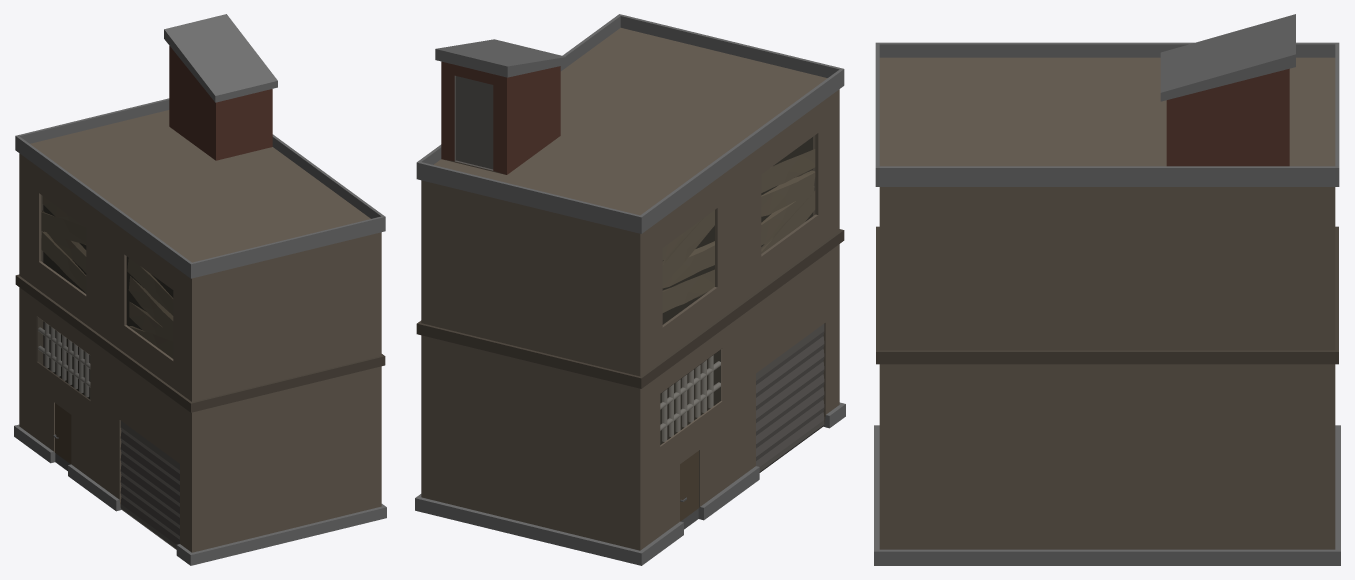
File: Proto-OldPawn.fbx
3 renders of one model, left to right at view 1: azimuth 30°, elevation 25°; view 2: azimuth 150°, elevation 25°; view 3: azimuth 270°, elevation 25°, orthographic. The views are drawn at different scales.
Parts seen in each view (by area): view 1: PawnShopOld; view 2: PawnShopOld; view 3: PawnShopOld.
Boxes of the visible parts, bbox=[...] form: PawnShopOld: bbox=[14, 14, 386, 565]; PawnShopOld: bbox=[415, 14, 845, 565]; PawnShopOld: bbox=[874, 14, 1340, 565].
Bounding box in the file's own units: 5.58 × 10.52 × 8.7.
